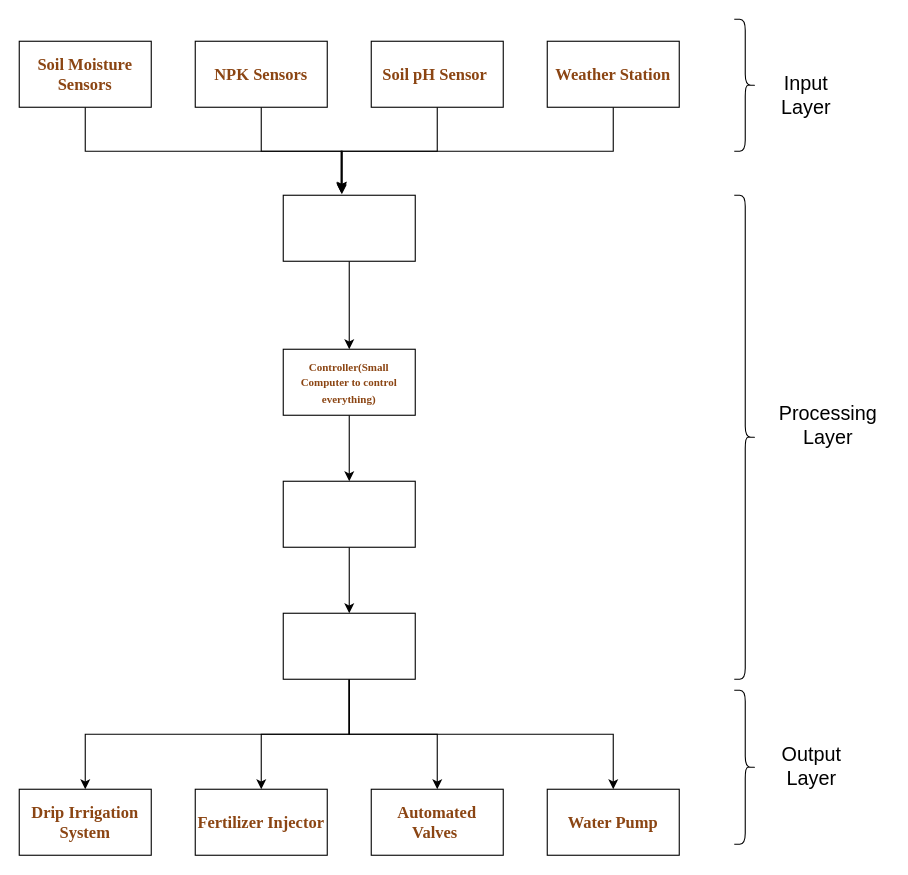
Some shapes in this 908 by 875 pixel diagram are drawn without their labels. Here are the shapes that lost their labels. From the top down, the box of each, then its label:
(282, 194, 415, 261): LoRaWAN Gateway
(282, 480, 415, 547): AI System
(282, 612, 415, 679): Send data to Cloud Platform
